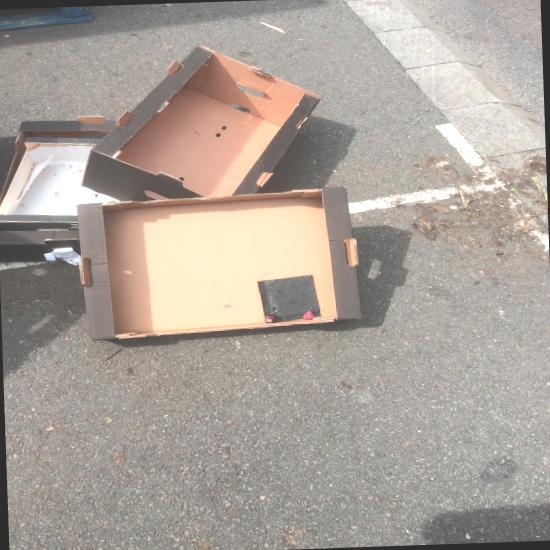Corrugated carton: (76, 186, 362, 340), (80, 45, 321, 201), (0, 116, 121, 262)
Food waste: (264, 314, 276, 323), (303, 311, 314, 319)
Unlabeled litter: (260, 22, 285, 34)
